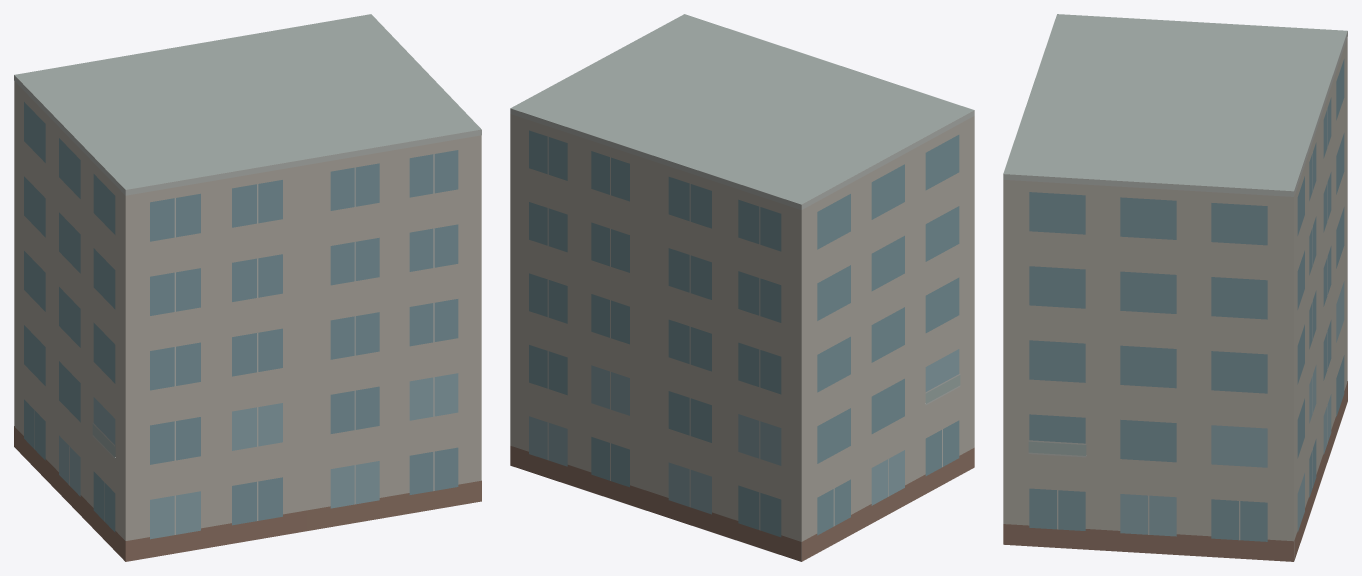
Rendered from survey-upis-32542091.glb.
3 renders of one model, left to right at view 1: azimuth 30°, elevation 25°; view 2: azimuth 150°, elevation 25°; view 3: azimuth 270°, elevation 25°, orthographic. The views are drawn at different scales.
Parts seen in each view (by area): view 1: survey-upis-32542091.tmp; view 2: survey-upis-32542091.tmp; view 3: survey-upis-32542091.tmp.
Part boxes in pixels (left/top/right/bottom): survey-upis-32542091.tmp: left=14, top=14, right=481, bottom=561; survey-upis-32542091.tmp: left=510, top=14, right=974, bottom=561; survey-upis-32542091.tmp: left=1003, top=14, right=1347, bottom=561.
Bounding box in the file's own units: 16.22 × 15.8 × 13.33.
